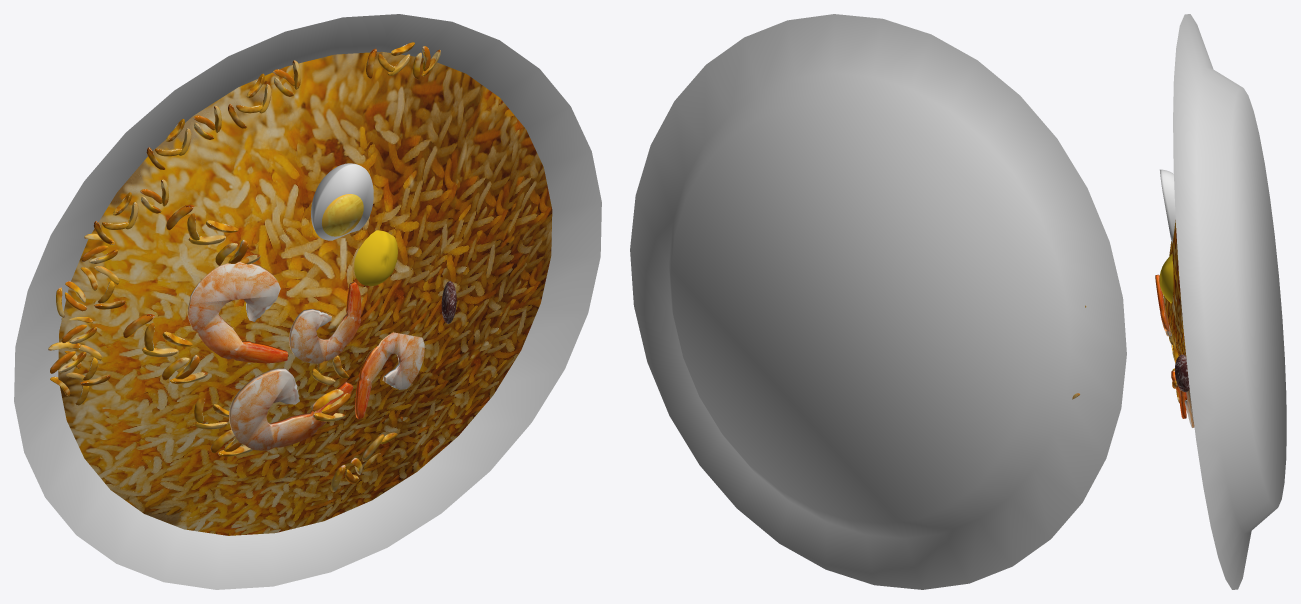
The model's file is smshrimpbryani-v3.glb.
3 views of the same model, side by side, from view 1: azimuth 30°, elevation 25°; view 2: azimuth 150°, elevation 25°; view 3: azimuth 270°, elevation 25° (orthographic). The views are drawn at different scales.
Parts seen in each view (by area): view 1: Cone, Circle.002, Vert.001, Vert.002, Sphere, Vert.003, Vert.004, Sphere.001, Plane.025, Plane.026, Plane.029, Plane.011 (+8 smaller); view 2: Circle.002; view 3: Circle.002, Cone, Sphere, Sphere.001, Sphere.002, Vert.004, Vert.003, Plane.029.
Boxes of the visible parts, <box> form: Cone: <box>58,51,552,535</box>; Circle.002: <box>14,14,601,589</box>; Vert.001: <box>187,261,287,363</box>; Vert.002: <box>229,368,353,450</box>; Sphere: <box>311,163,373,240</box>; Vert.003: <box>289,281,361,363</box>; Vert.004: <box>355,332,424,419</box>; Sphere.001: <box>354,230,397,286</box>; Plane.025: <box>123,314,207,384</box>; Plane.026: <box>166,205,260,265</box>; Plane.029: <box>311,355,351,421</box>; Plane.011: <box>228,60,300,128</box>; Circle.002: <box>630,14,1126,589</box>; Circle.002: <box>1173,14,1286,589</box>; Cone: <box>1163,220,1189,390</box>; Sphere: <box>1160,169,1175,242</box>; Sphere.001: <box>1159,254,1173,303</box>; Sphere.002: <box>1175,354,1189,392</box>; Vert.004: <box>1178,386,1194,427</box>; Vert.003: <box>1155,274,1171,336</box>; Plane.029: <box>1169,331,1179,402</box>.
Bounding box in the file's own units: 7.81 × 7.77 × 1.78.
23 materials, 20 textured.
